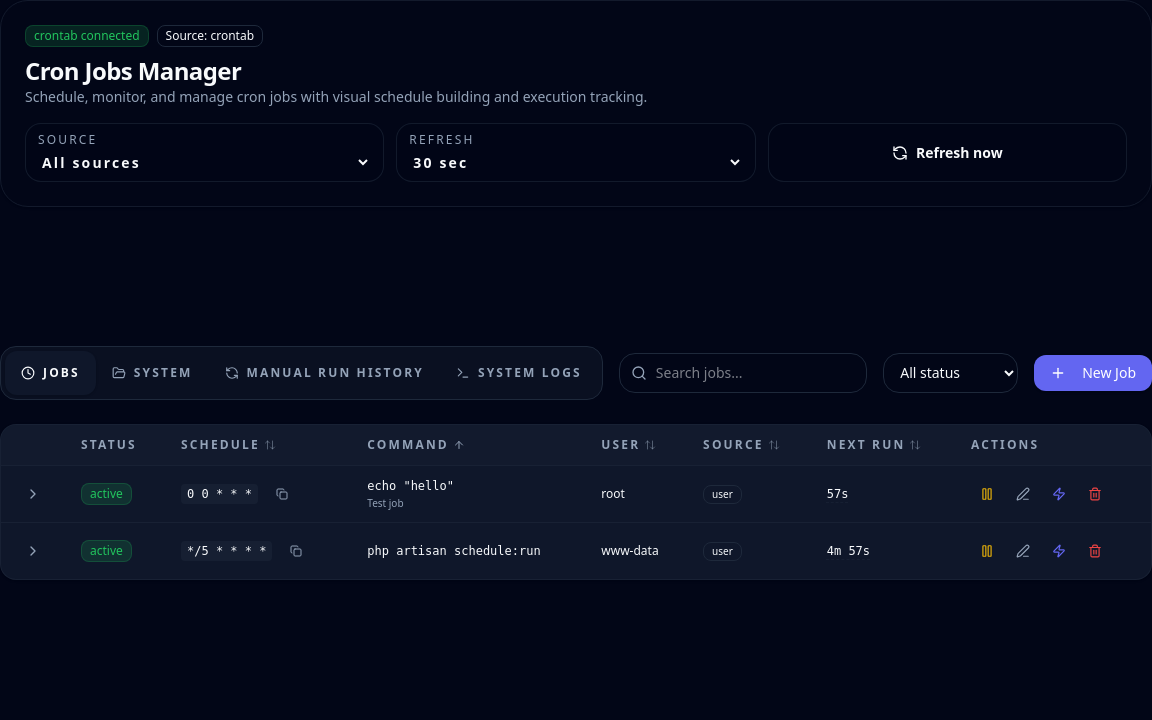
Scenario: CronsPage › labels the create job dialog and close control
Click the button "New Job" at (1093, 372), box [1034,354,1151,390]
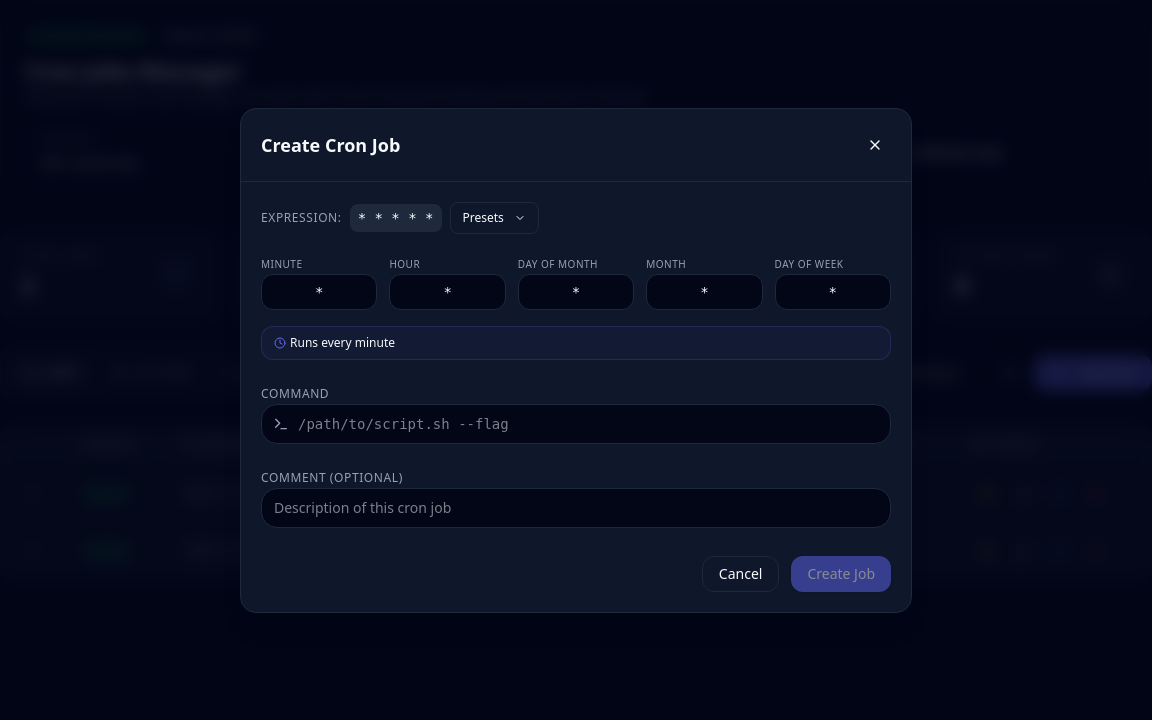
expect the button named "Close create job dialog" is shown: met, box [859,128,891,160]
